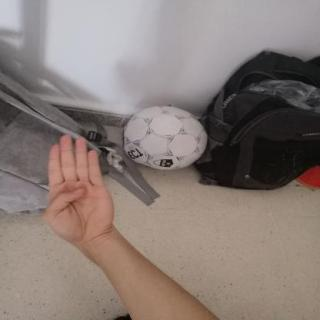KAAF: (31, 126, 124, 251)
